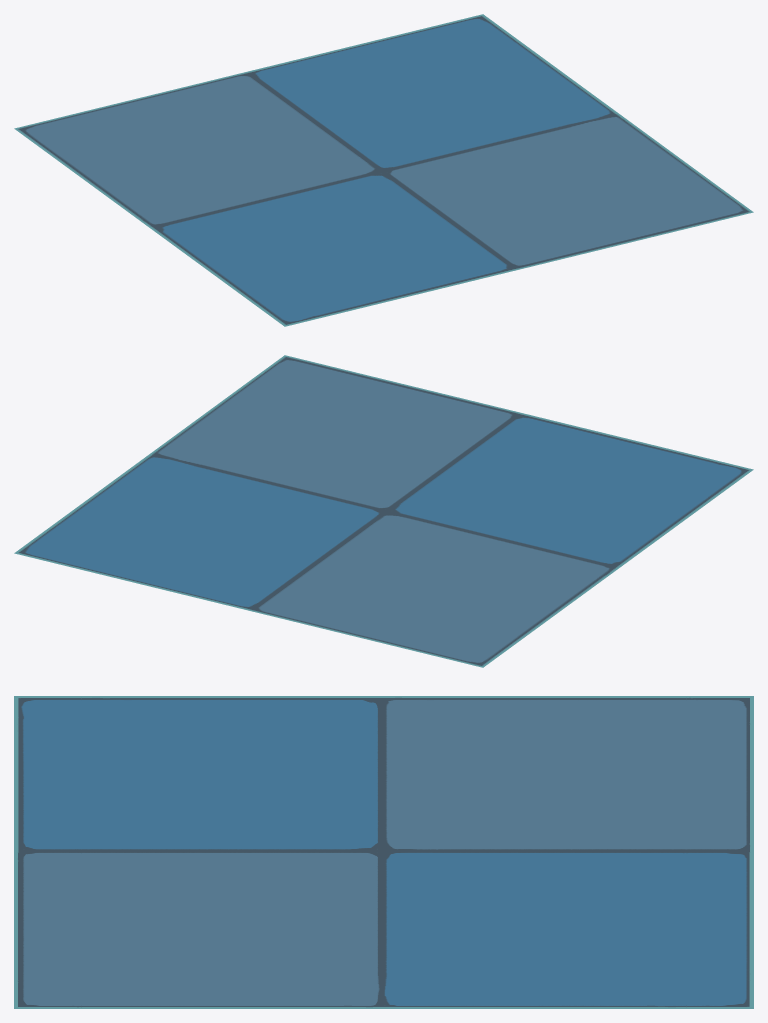
File: CenterTile.fbx
The picture shows the model from 3 angles, top to bottom: view 1: azimuth 30°, elevation 25°; view 2: azimuth 150°, elevation 25°; view 3: azimuth 270°, elevation 25°; orthographic projection. The views are drawn at different scales.
Visible parts, largest first — view 1: Center Tile; view 2: Center Tile; view 3: Center Tile.
Part boxes in pixels (x1,y1,x2,y2): Center Tile: (14, 14, 753, 326); Center Tile: (14, 355, 753, 667); Center Tile: (14, 696, 753, 1008).
Size of the model in its own units: 200 by 3.26e-05 by 200.
Materials: 1 (1 with a texture image).
